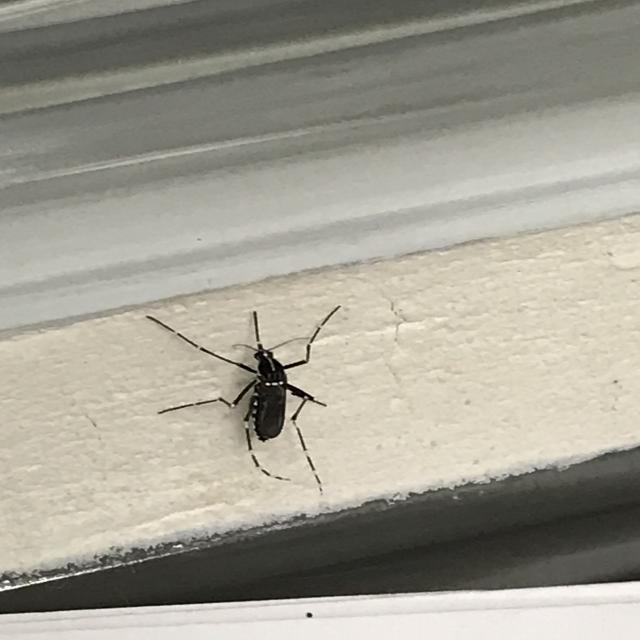albopictus: (136, 298, 347, 494)
